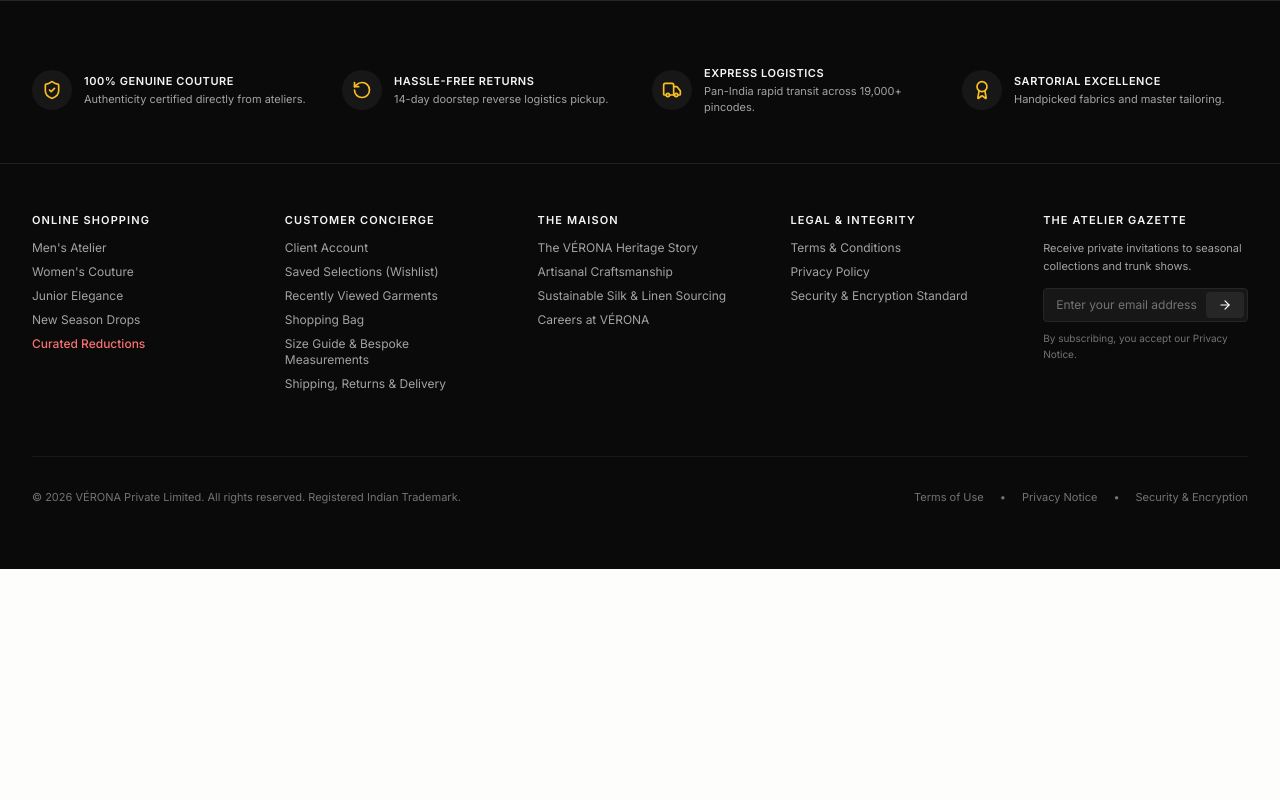
Test: Navigation & Layout Presentation Components Suite › StorefrontFooter › should validate newsletter input and show error on invalid email
Type "invalid-email" into the field named "Email address for newsletter".
click(1146, 305); type("invalid-email")  # box [1043,288,1248,322]
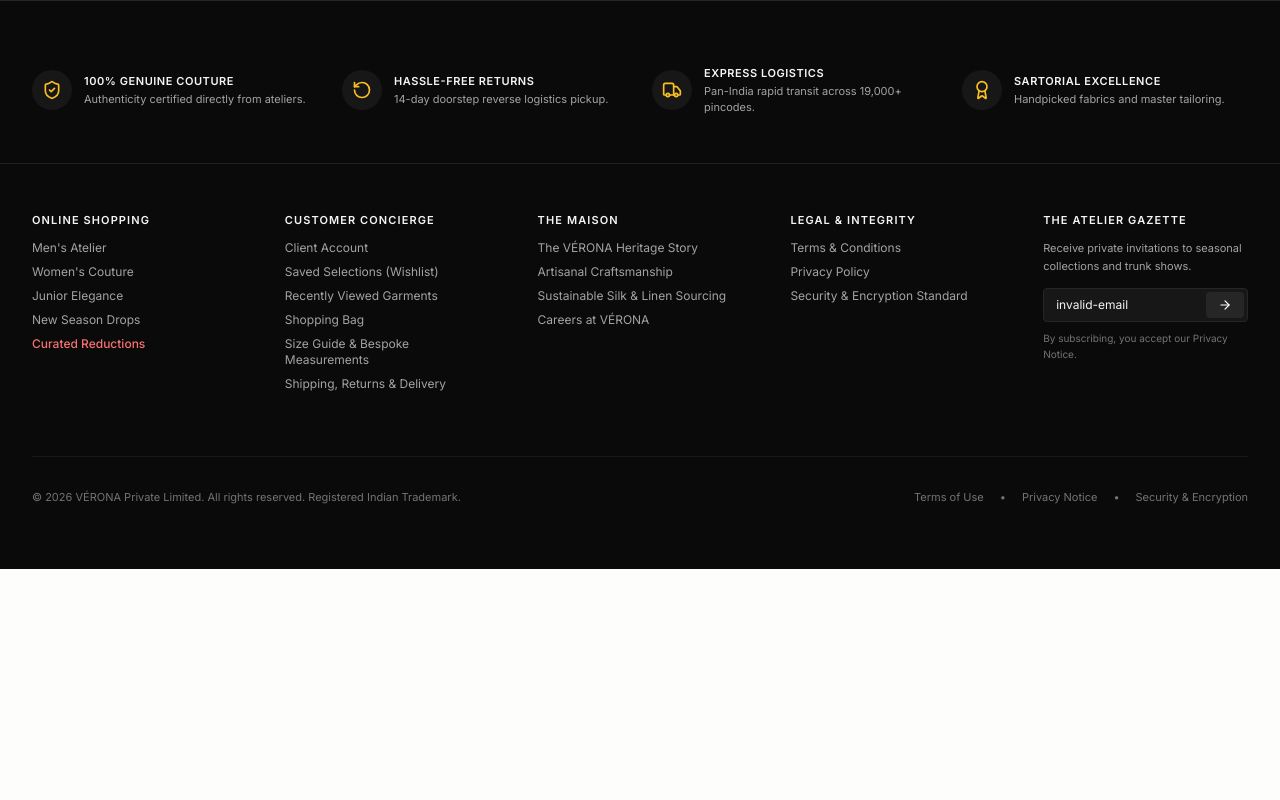
Click the button named "Subscribe to newsletter".
click(1225, 305)  # box [1206,292,1244,318]
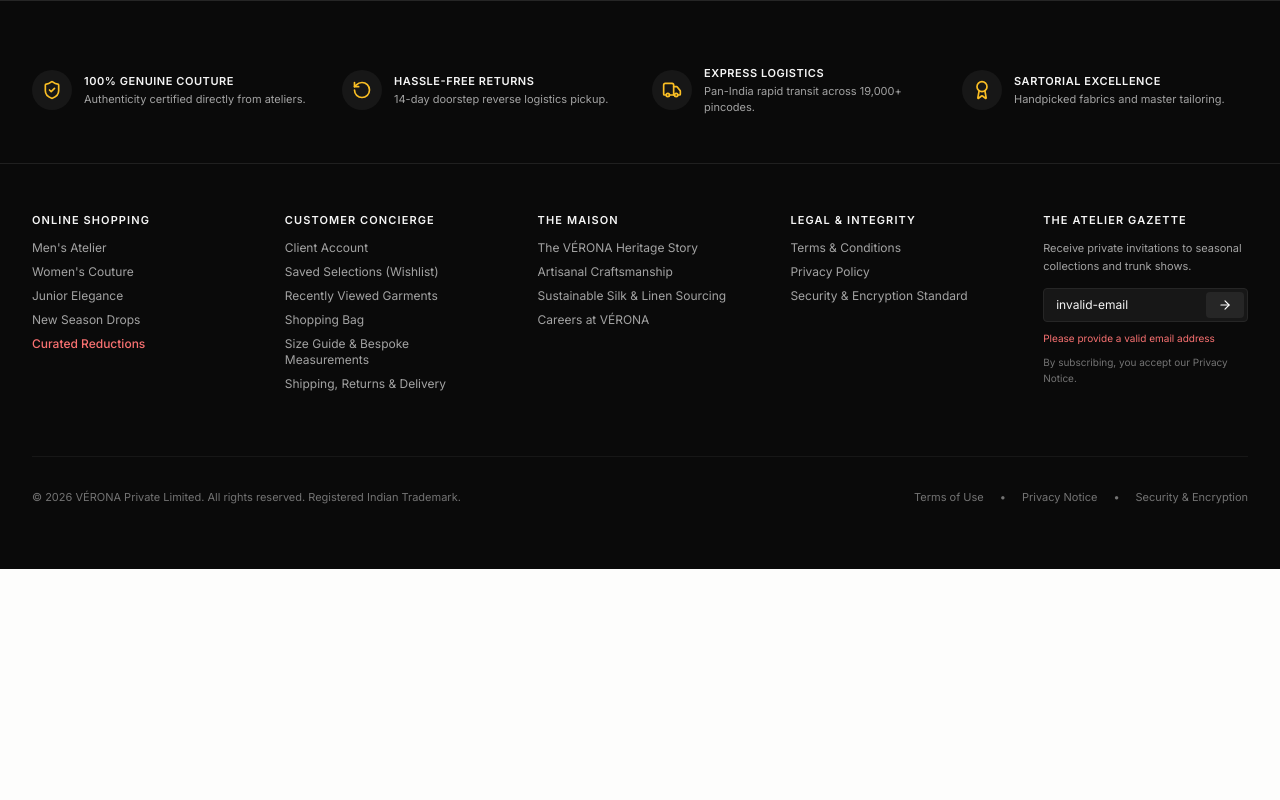
Result: the text "Please provide a valid email address" is shown at [1043,332,1215,344]
